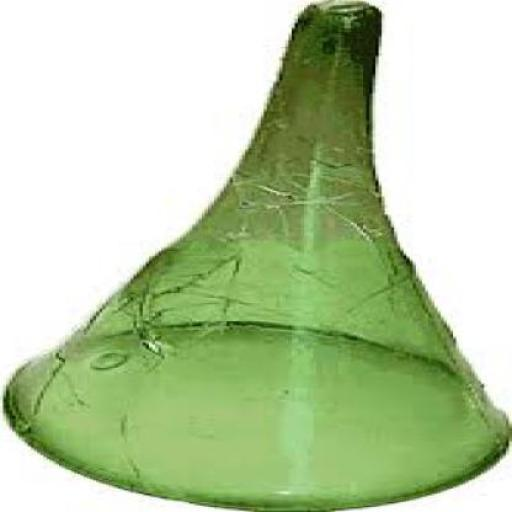glass: (2, 0, 512, 511)
